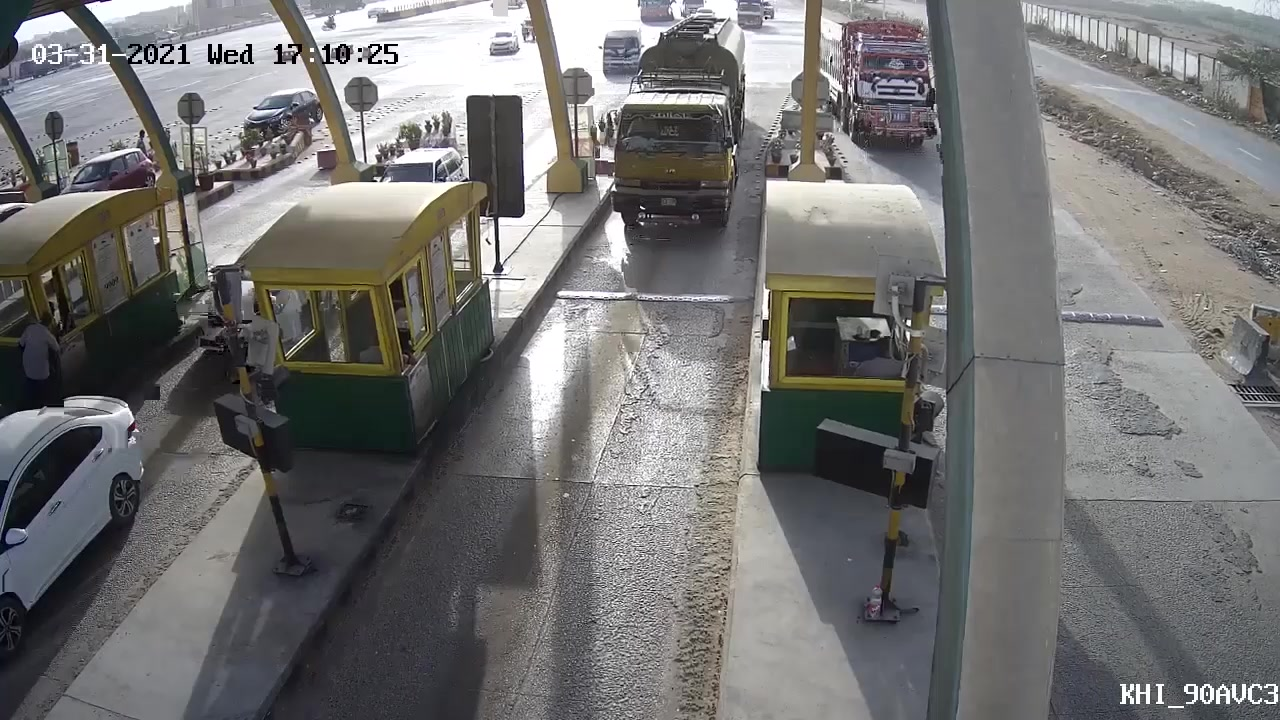F6: (599, 8, 758, 255)
